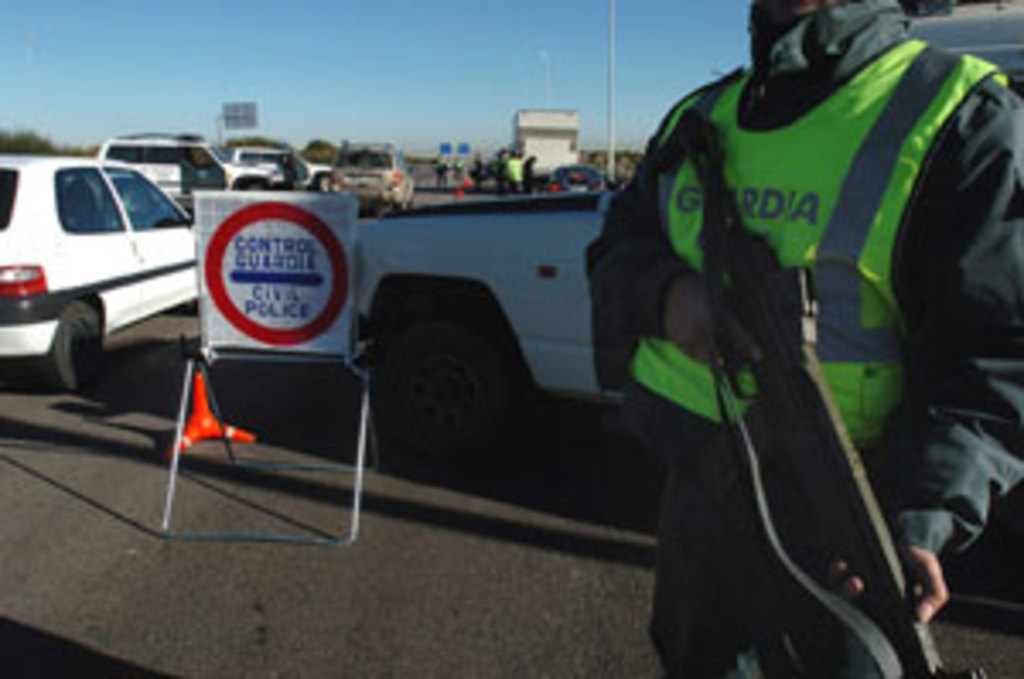Car: (0, 153, 197, 392), (98, 136, 286, 214), (546, 167, 600, 191)
